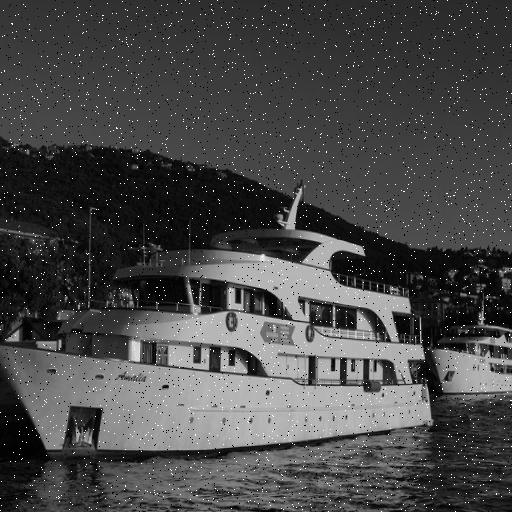cruises: (1, 178, 439, 469), (430, 306, 512, 405)
